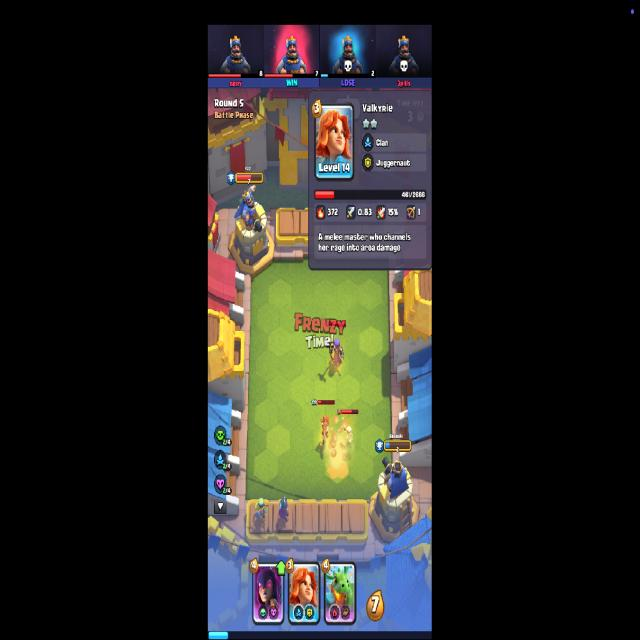card_baby_drag: (324, 561, 356, 626)
card_valkyrie: (287, 560, 321, 626)
card_witch: (252, 561, 284, 625)
musketeer: (279, 497, 289, 523)
skeleton: (344, 425, 353, 443)
spear_goblin: (254, 497, 268, 522)
valkyrie: (320, 416, 332, 448)
witch: (330, 338, 344, 367)
